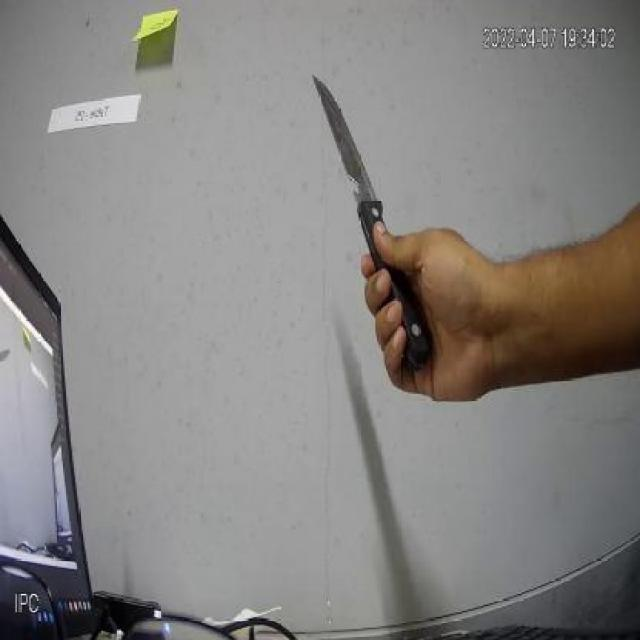-: (298, 60, 437, 368)
